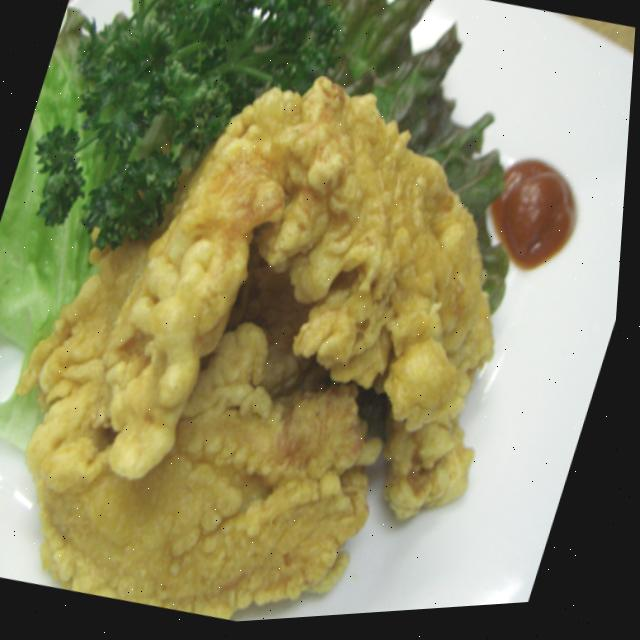鸡肉料理 含炸鸡: (0, 27, 602, 639)
